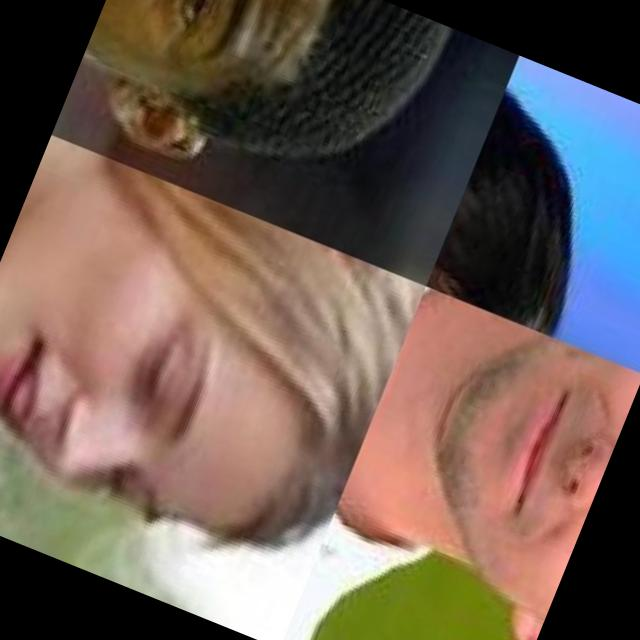bareface: (0, 149, 406, 606)
